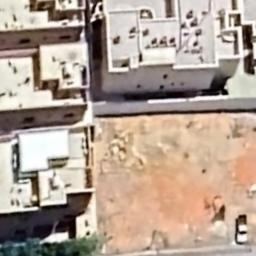pickup: (231, 212, 251, 247)
